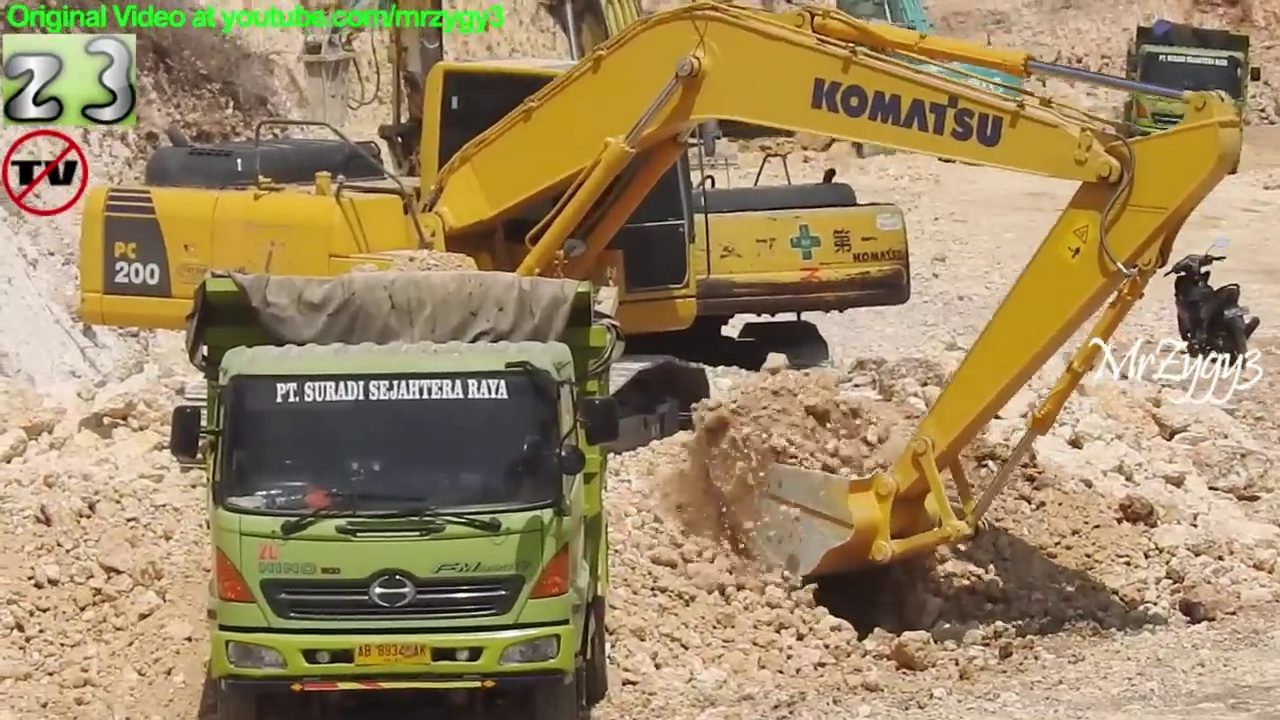excavator: (67, 1, 1248, 592), (355, 1, 923, 406), (292, 1, 810, 185), (798, 1, 1046, 171)
truck: (165, 262, 632, 720), (1109, 13, 1267, 179)
